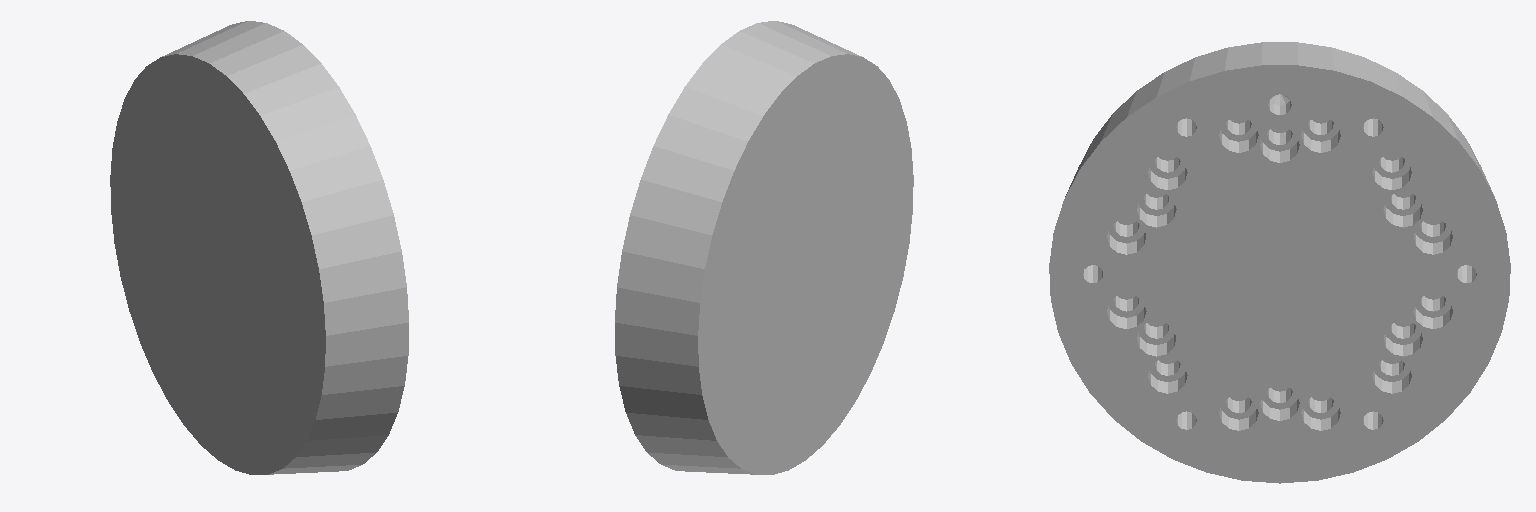
File: kuka_arm_link_6_visuals_mesh.obj
3 views of the same model, side by side, from view 1: azimuth 30°, elevation 25°; view 2: azimuth 150°, elevation 25°; view 3: azimuth 270°, elevation 25° (orthographic).
Size of the model in its own units: 0.0375 by 0.1977 by 0.1978.